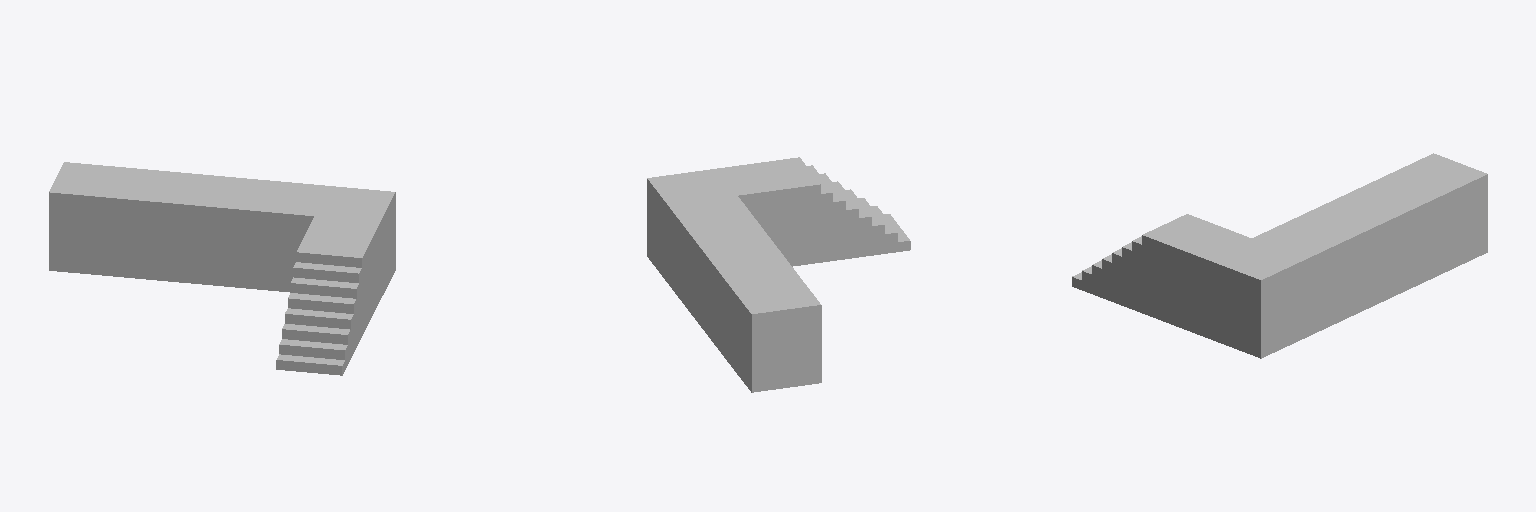
Rendered from first_stairs.obj.
3 views of the same model, side by side, from view 1: azimuth 30°, elevation 25°; view 2: azimuth 150°, elevation 25°; view 3: azimuth 270°, elevation 25° (orthographic).
Parts seen in each view (by area): view 1: fisrt_stairs; view 2: fisrt_stairs; view 3: fisrt_stairs.
Boxes of the visible parts, x1=… form: fisrt_stairs: x1=49, y1=162, x2=395, y2=375; fisrt_stairs: x1=647, y1=157, x2=910, y2=392; fisrt_stairs: x1=1072, y1=153, x2=1487, y2=358.
Bounding box in the file's own units: 92.03 × 26.44 × 127.